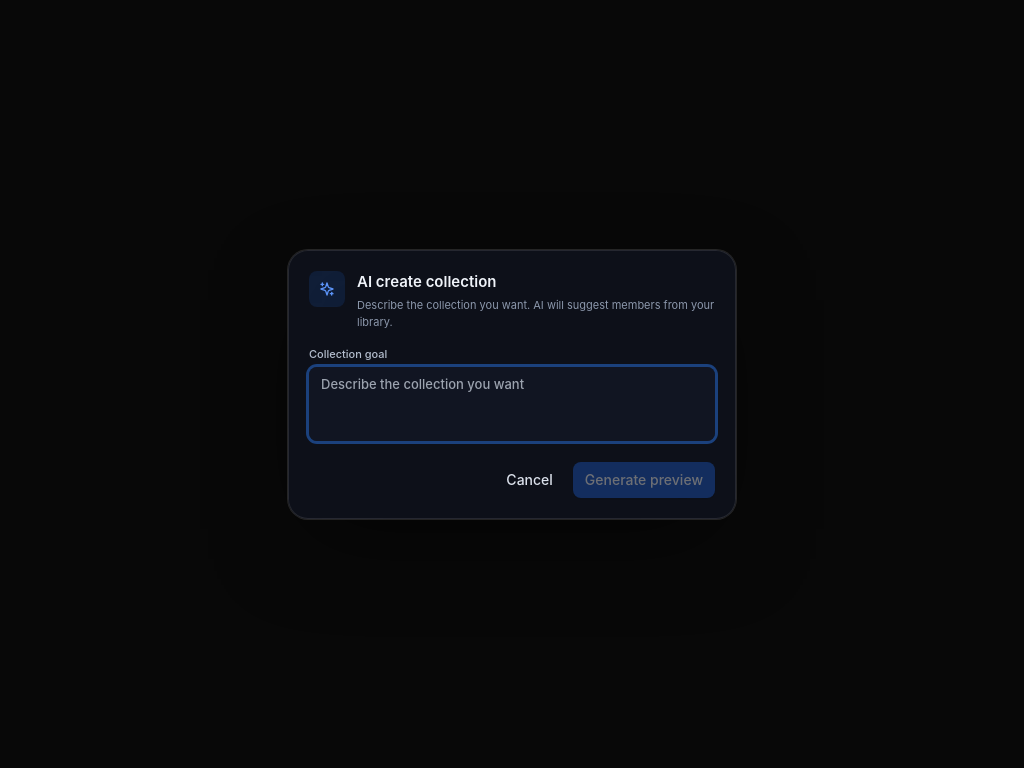
Test: AI 整理对话框 › 目标输入对话框 shall 空目标禁用提交且确认时回传 trim 后的描述
Later steps or results of the test are not shown.
Expected: the text "Describe the collection you want" is shown, [357,298,714,328]
Expected: the button "Generate preview" is disabled, [573,462,715,498]
Type "  Build a frontend research collection  " into the text box labelled "Collection goal" at (512, 404), box [309,366,715,441]
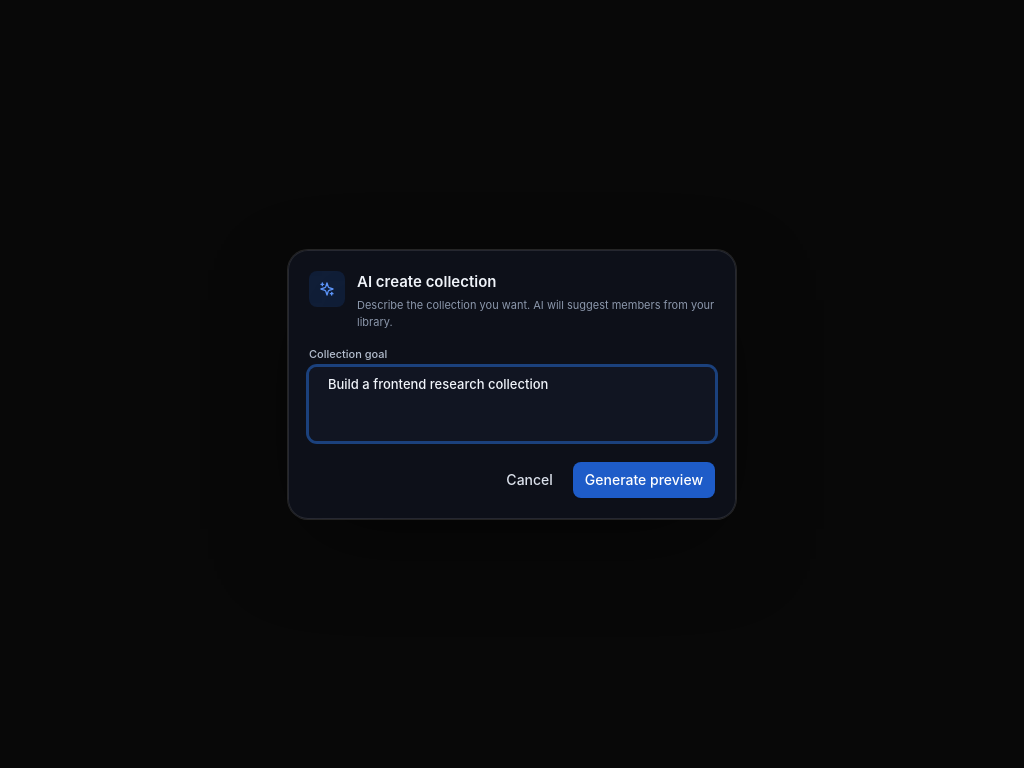
Result: the button "Generate preview" is enabled at [573,462,715,498]
